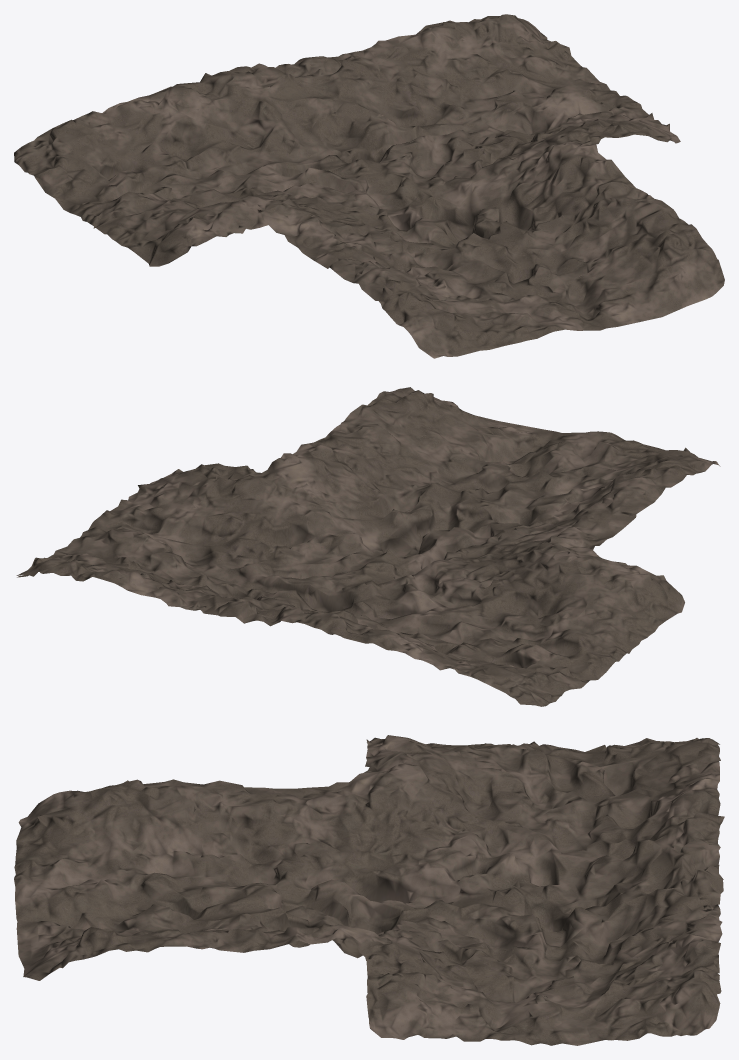
File: SM_FloorMudCorner_4x8_01.glb
3 views of the same model, one above another, from view 1: azimuth 30°, elevation 25°; view 2: azimuth 150°, elevation 25°; view 3: azimuth 270°, elevation 25° (orthographic). The views are drawn at different scales.
Visible parts, largest first — view 1: SM_FloorMudCorner_4x8_01; view 2: SM_FloorMudCorner_4x8_01; view 3: SM_FloorMudCorner_4x8_01.
Part boxes in pixels (x1,y1,x2,y2): SM_FloorMudCorner_4x8_01: (14,14,724,358); SM_FloorMudCorner_4x8_01: (16,387,720,706); SM_FloorMudCorner_4x8_01: (14,735,724,1045).
Bounding box in the file's own units: 7.92 × 1.14 × 8.04.
Materials: 1 (1 with a texture image).
